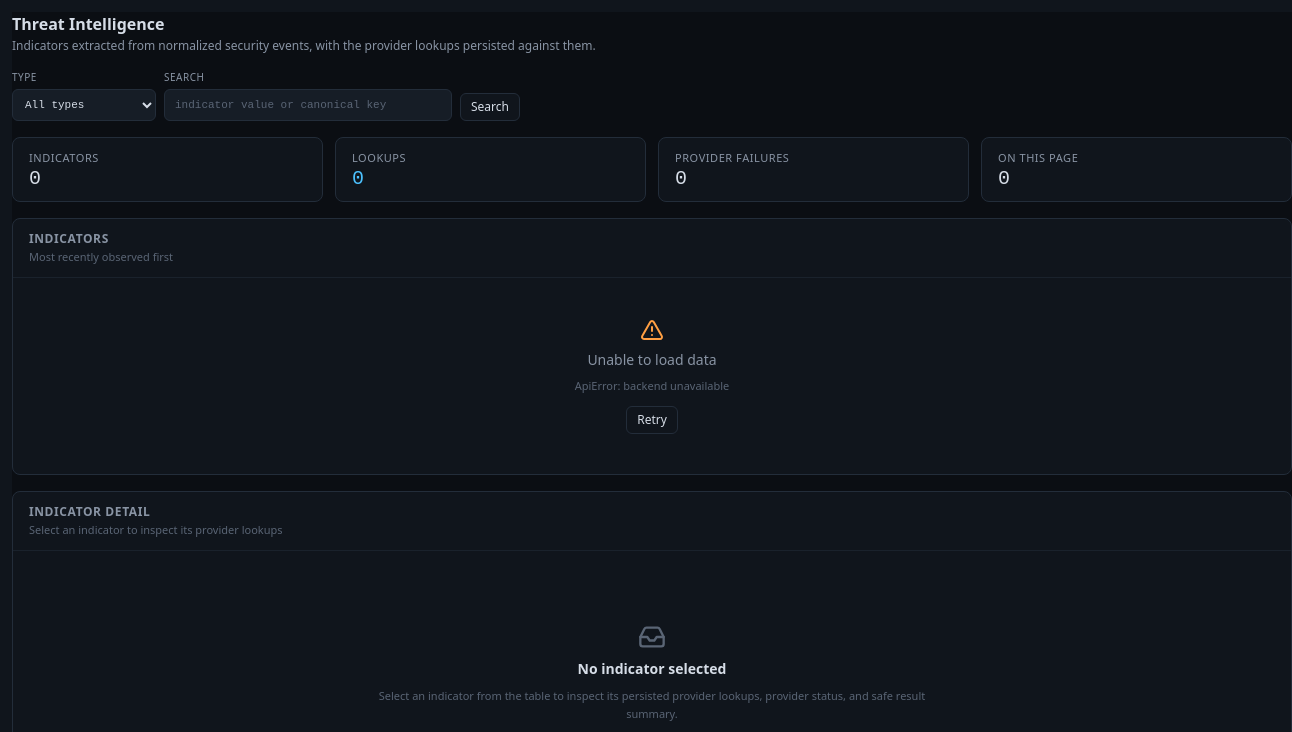
ThreatIntelPage — Step 8A read surface › surfaces an API error with a retry affordance
The width and height of the screenshot is (1292, 732).
Expected: the text "Unable to load data" is shown, [587, 350, 717, 370]
Expected: the text "ApiError: backend unavailable" is shown, [575, 378, 729, 394]
Click the button "Retry": (652, 420) [626, 406, 678, 434]
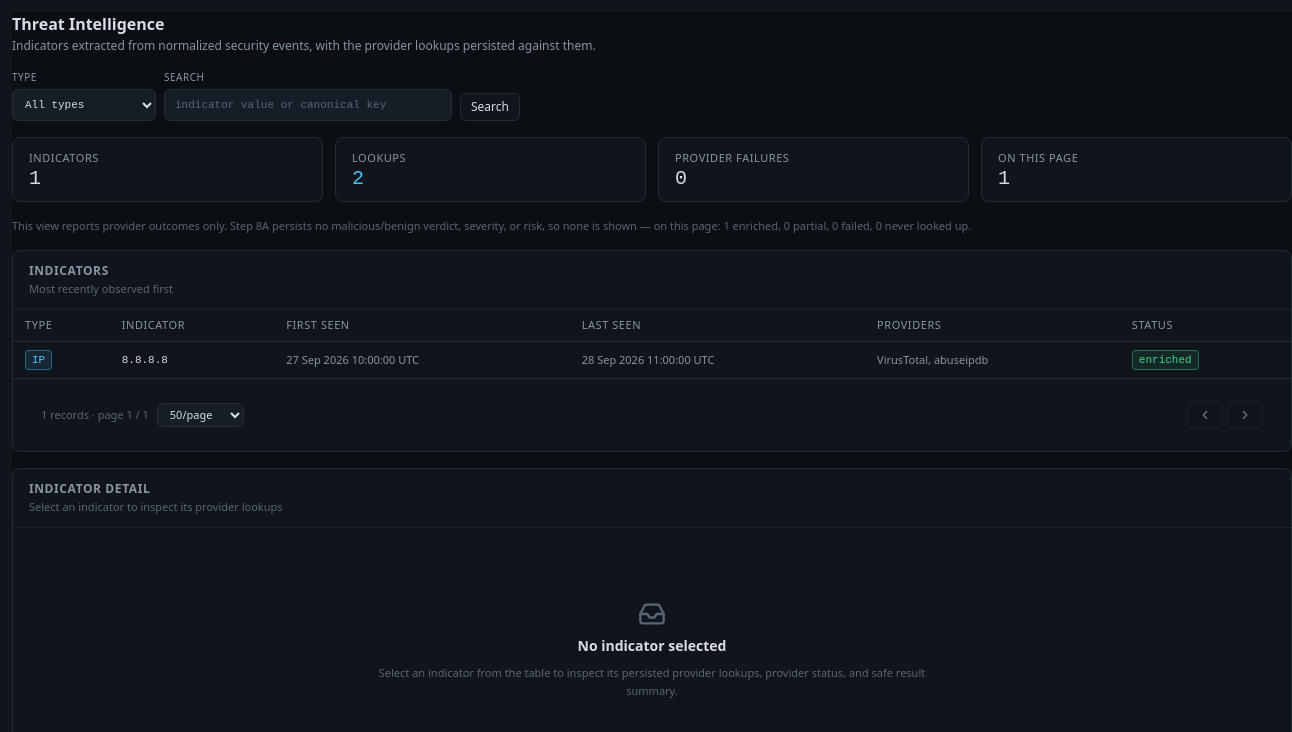
Expected: the row with test id "ti-indicator-row" is shown, [13, 342, 1291, 378]
